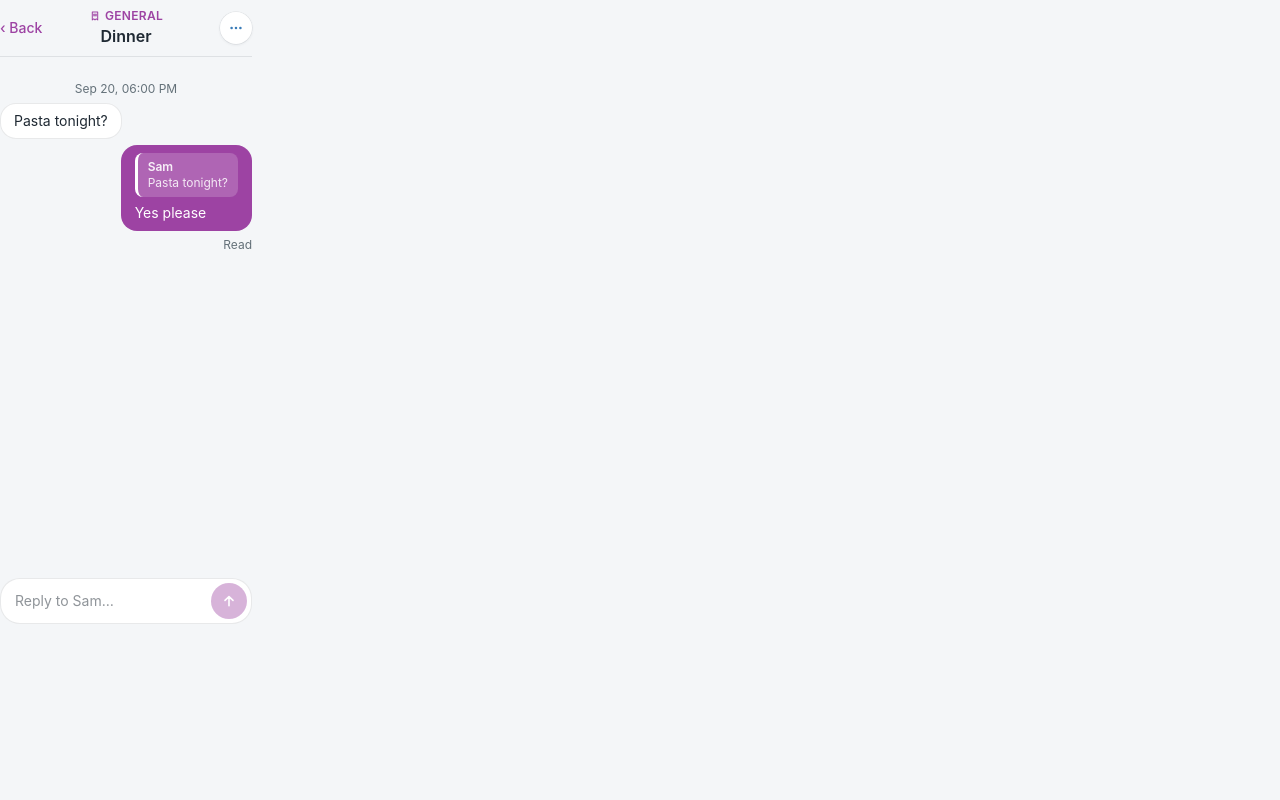
Scenario: NoteThreadView replies › replies quoting a message picked from its menu
expect the text "Yes please" is shown: met, box [135,204,206,221]
Step 1. Right-click the text "Pasta tonight?" below "Sep 20, 06:00 PM" → (61, 121), box [14,111,108,131]
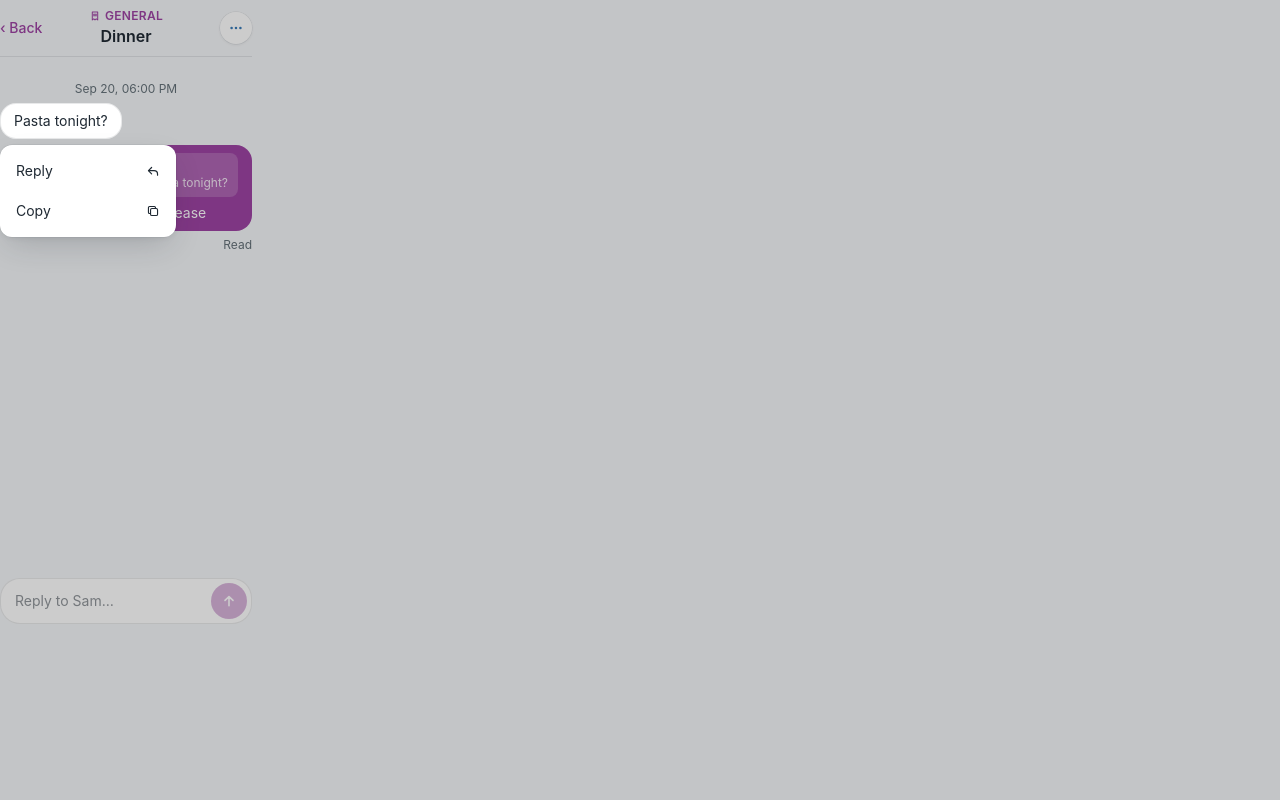
Step 2. Click the menu item "Reply" → (88, 171), box [6,151,170,191]
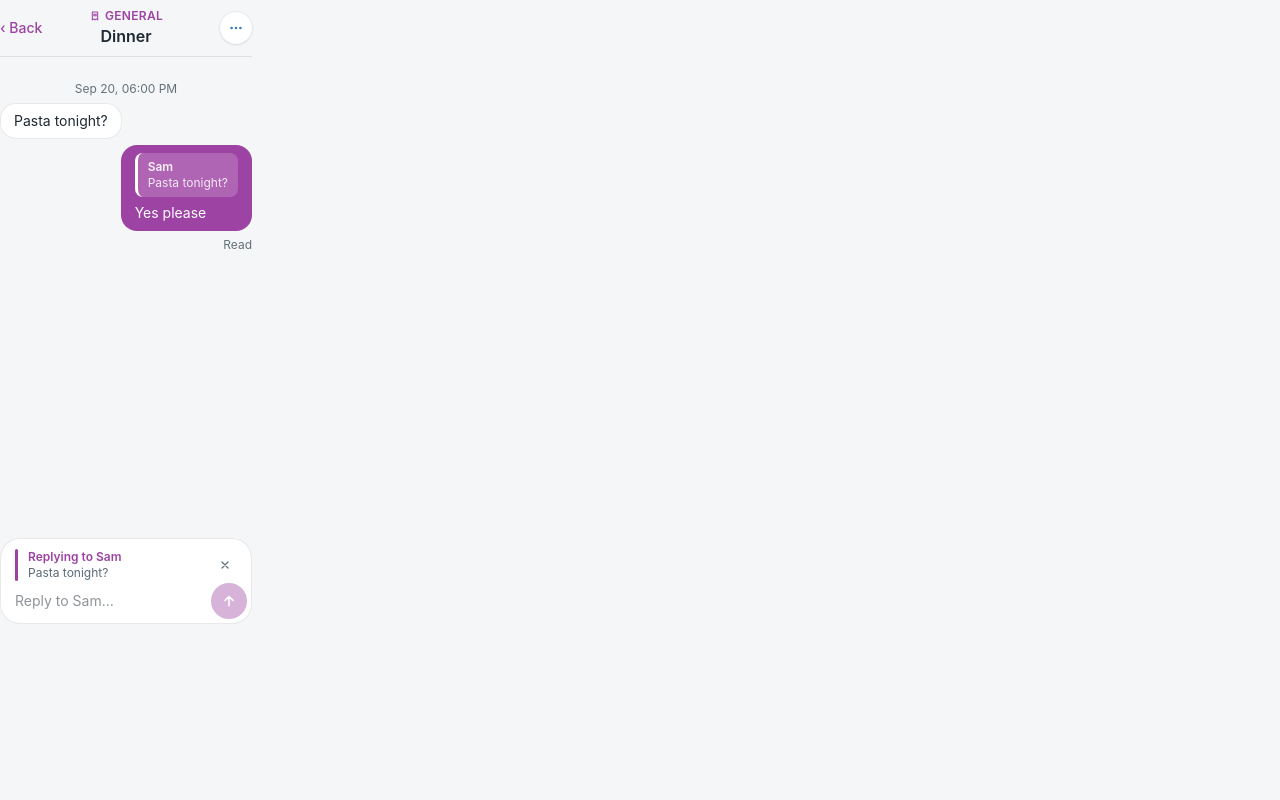
expect the text "Replying to Sam" is shown: met, box [28,549,122,564]
Step 3. Type "See you at 7" into the text box labelled "Reply to Sam" → (105, 601), box [5,583,205,619]
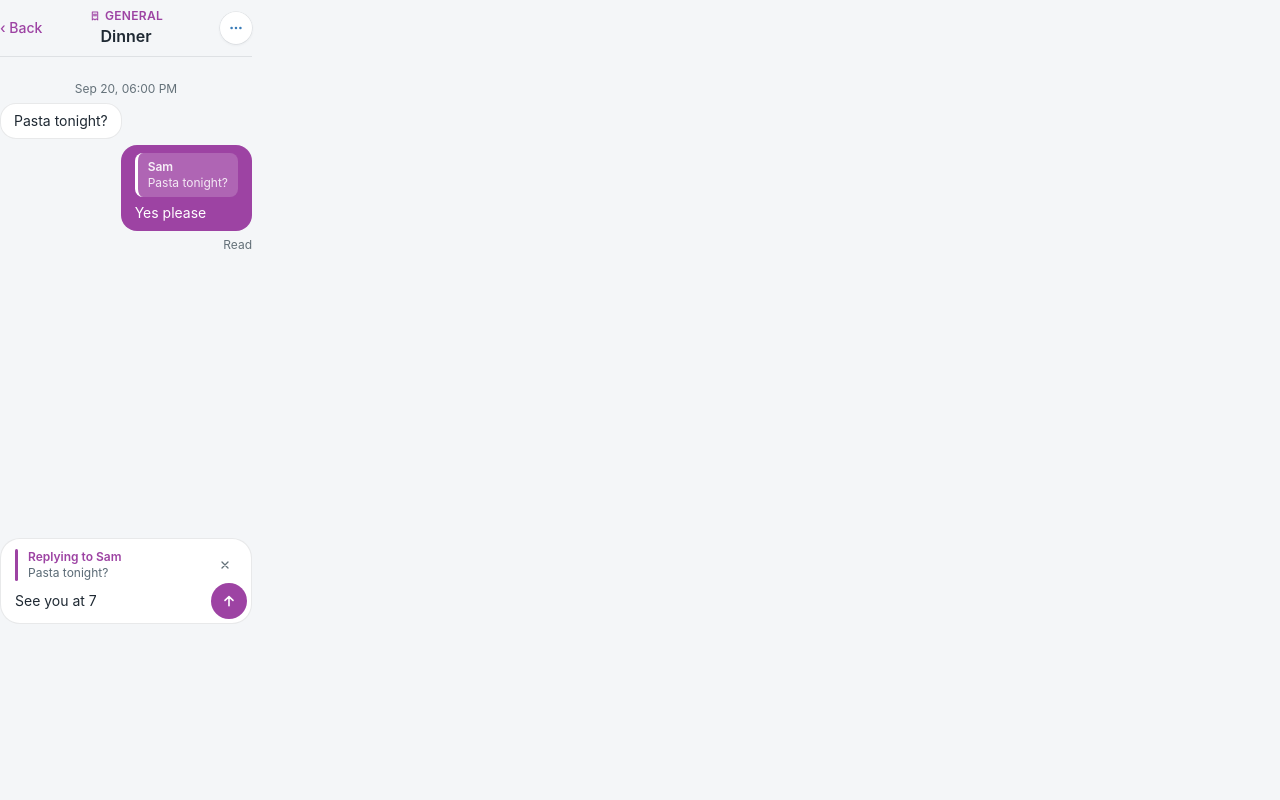
Step 4. Submit the form named "Reply to Sam", box [0,538,252,624]
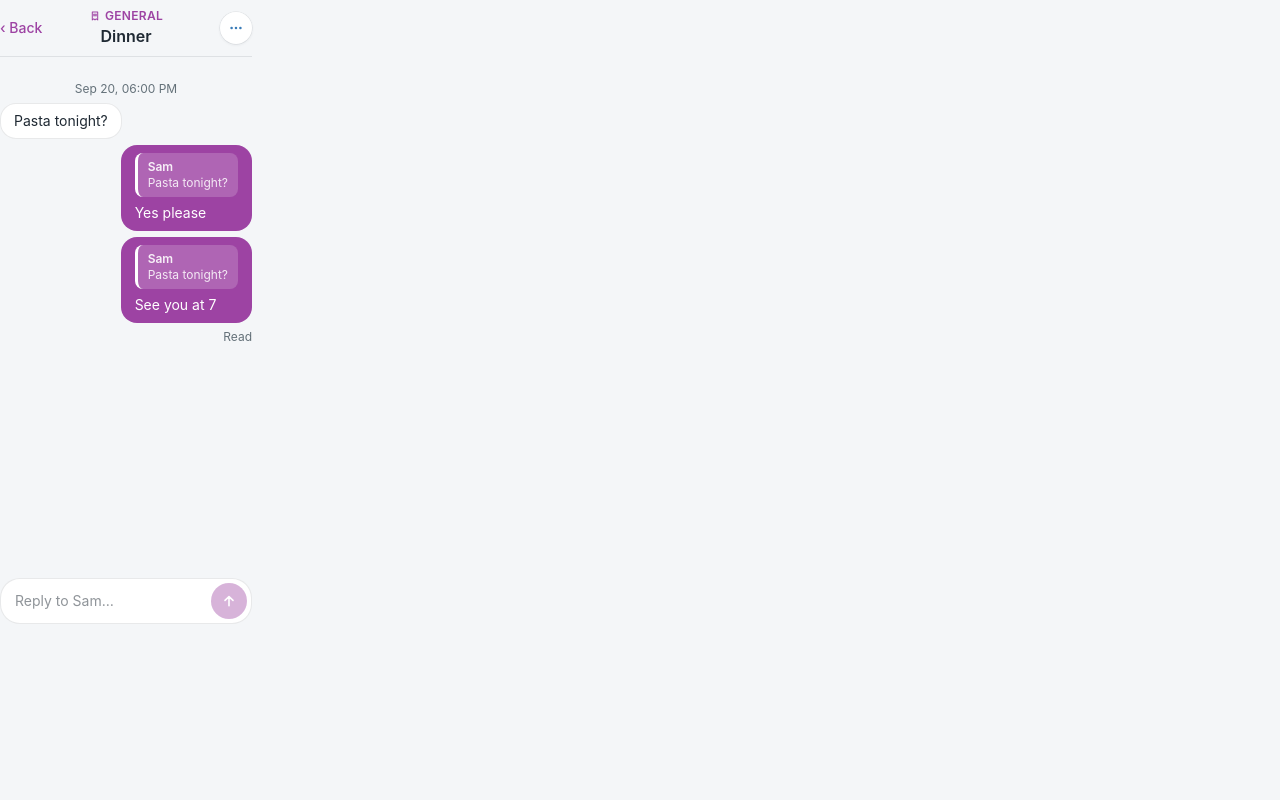
expect the text "Replying to Sam" is gone: met
